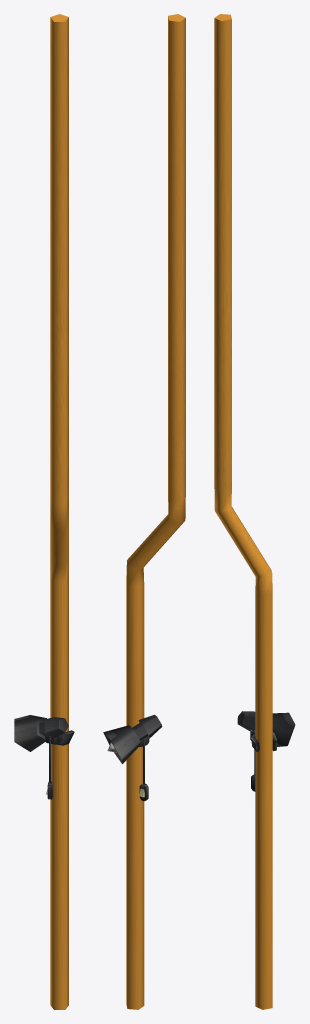
File: pipe2.FBX
3 views of the same model, side by side, from view 1: azimuth 90°, elevation 25°; view 2: azimuth 150°, elevation 25°; view 3: azimuth 330°, elevation 25° (orthographic). The views are drawn at different scales.
Parts seen in each view (by area): view 1: Cylinder001, Cylinder002; view 2: Cylinder001, Cylinder002; view 3: Cylinder001, Cylinder002.
Boxes of the visible parts, <box> form: Cylinder001: <box>50,14,68,1009</box>; Cylinder002: <box>14,715,68,751</box>; Cylinder001: <box>126,14,185,1009</box>; Cylinder002: <box>103,714,162,763</box>; Cylinder001: <box>214,14,272,1009</box>; Cylinder002: <box>237,711,295,746</box>.
Size of the model in its own units: 16.63 by 243 by 13.2.
Materials: 4 (4 with a texture image).
